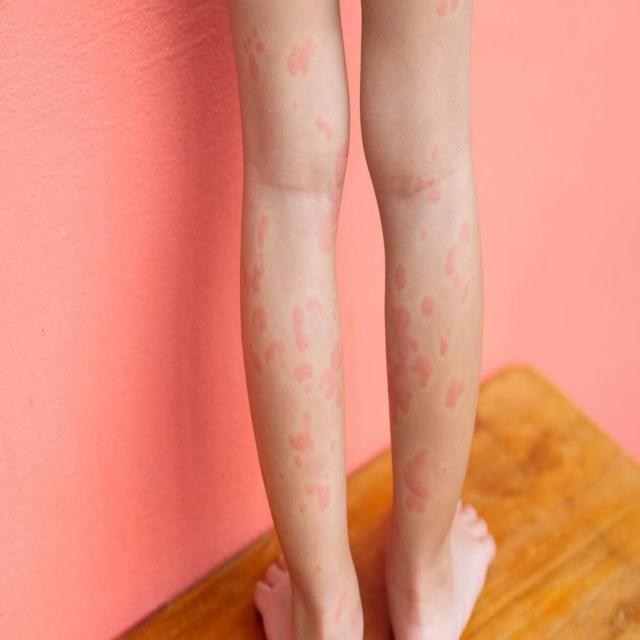hives: (241, 11, 357, 632), (386, 149, 476, 550)
